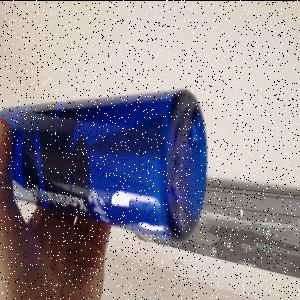Plastic-bottle: (8, 88, 210, 246)
